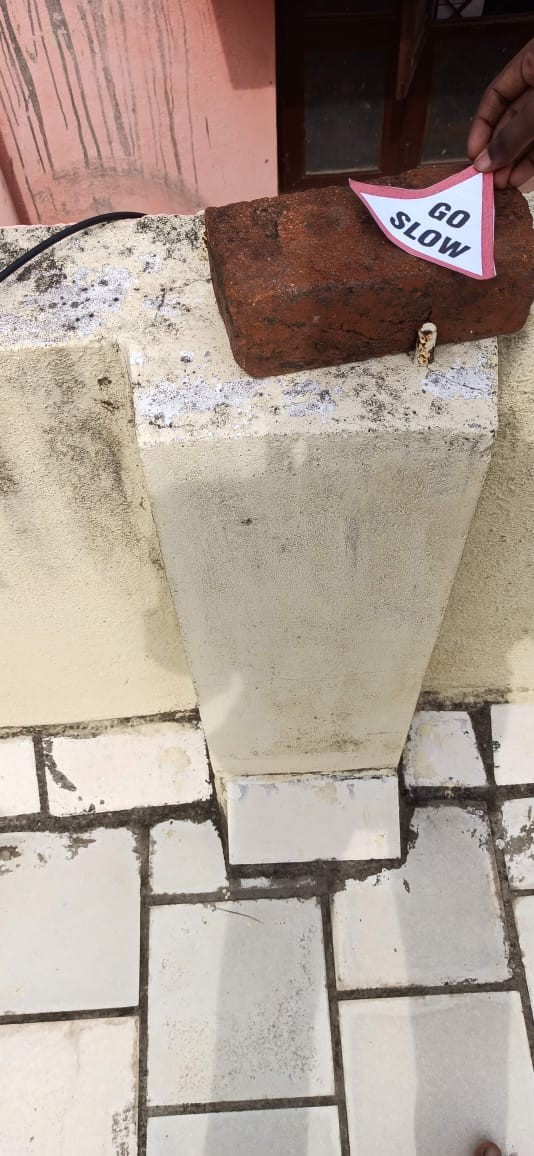GO SLOW: (350, 125, 508, 283)
